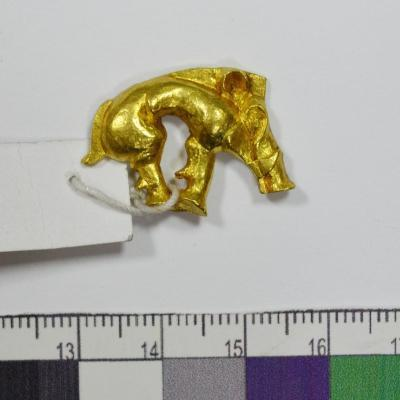archeology: (80, 67, 296, 219)
